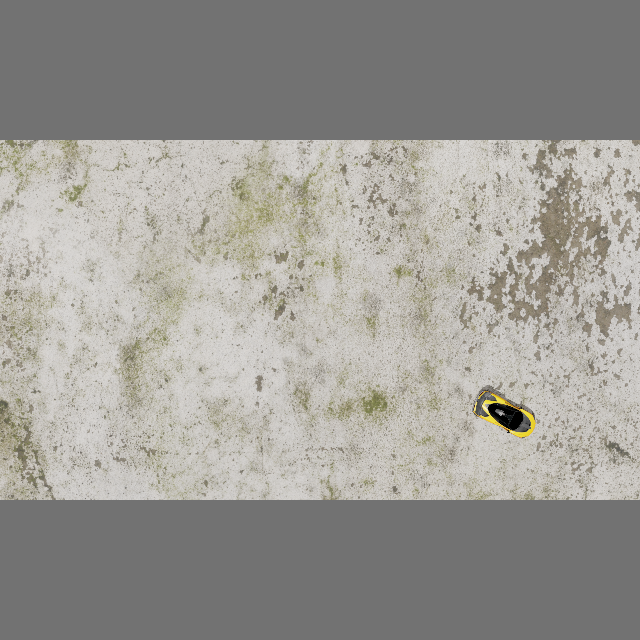car: (467, 386, 545, 446)
